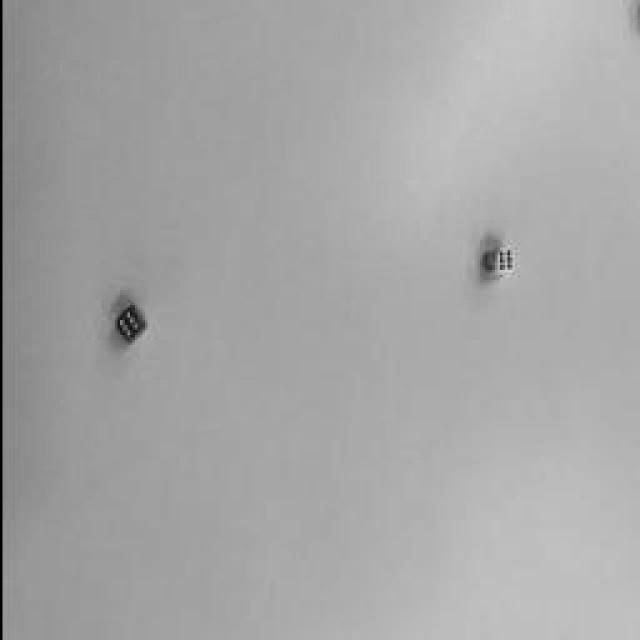dice_6: (114, 308, 138, 340), (492, 248, 512, 272)
